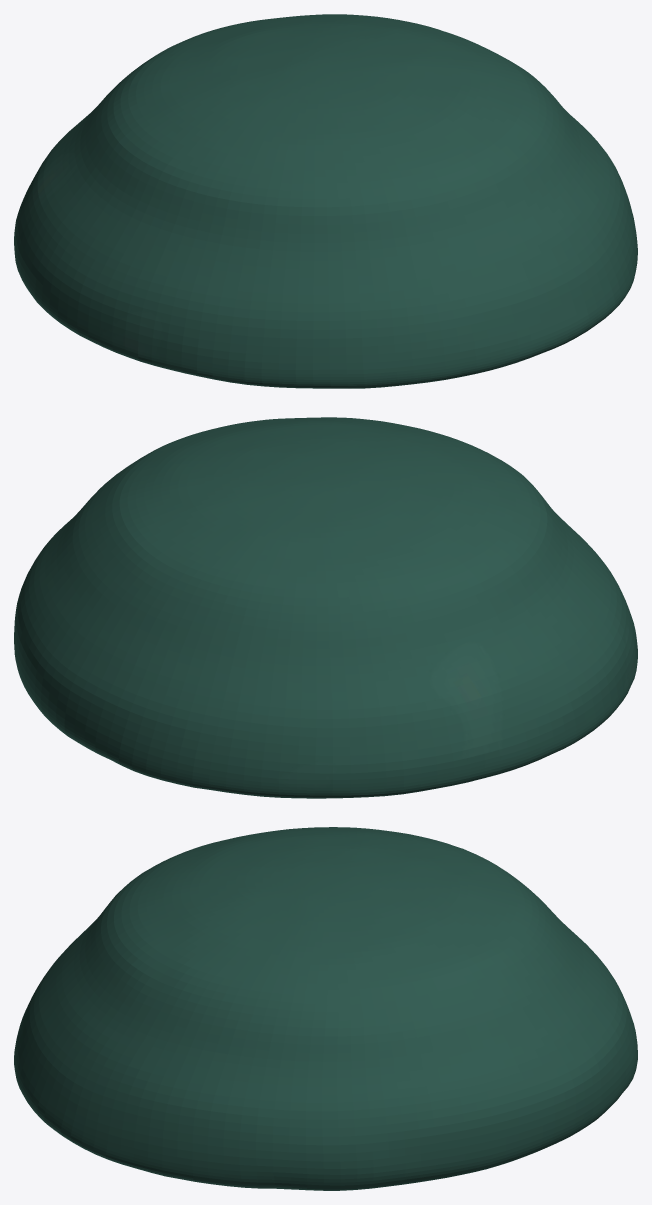
The model's file is topPlastic.gltf.
3 views of the same model, one above another, from view 1: azimuth 30°, elevation 25°; view 2: azimuth 150°, elevation 25°; view 3: azimuth 270°, elevation 25° (orthographic). The views are drawn at different scales.
Visible parts, largest first — view 1: Retopo_middle-top.002; view 2: Retopo_middle-top.002; view 3: Retopo_middle-top.002.
Part boxes in pixels (x1,y1,x2,y2): Retopo_middle-top.002: (14,14,637,388); Retopo_middle-top.002: (14,417,637,798); Retopo_middle-top.002: (14,827,637,1190).
Bounding box in the file's own units: 4.27 × 1.47 × 4.33.
Materials: 1 (1 with a texture image).
